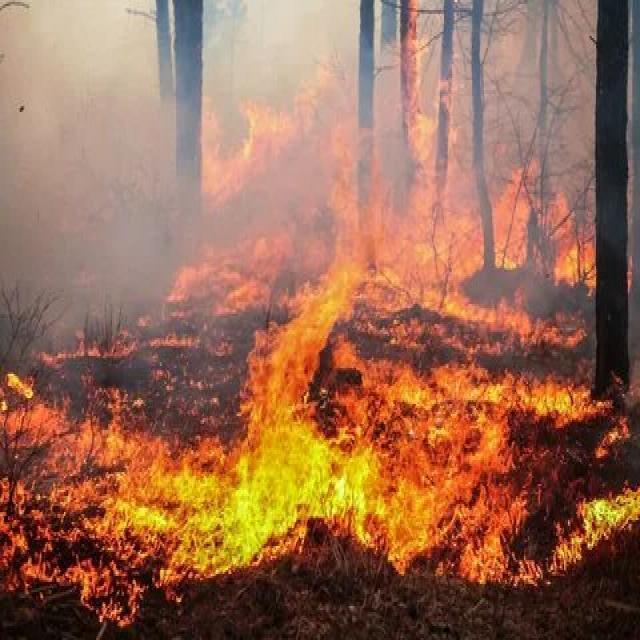Fire: (3, 126, 605, 640)
